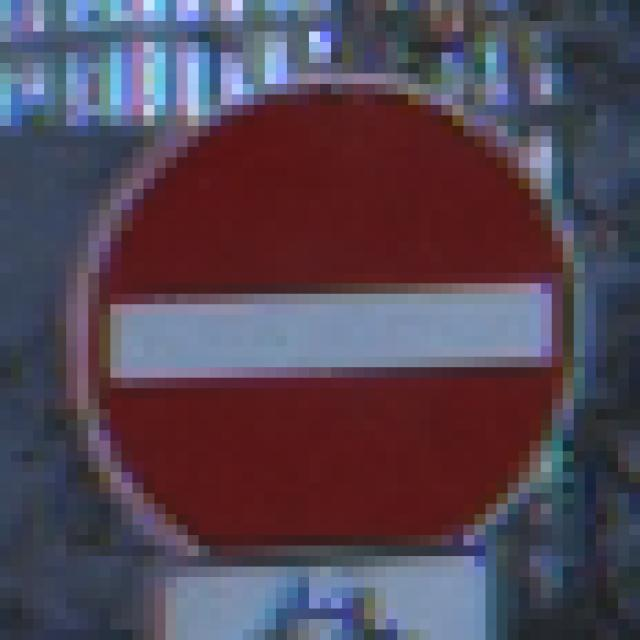no entry: (60, 70, 582, 560)
